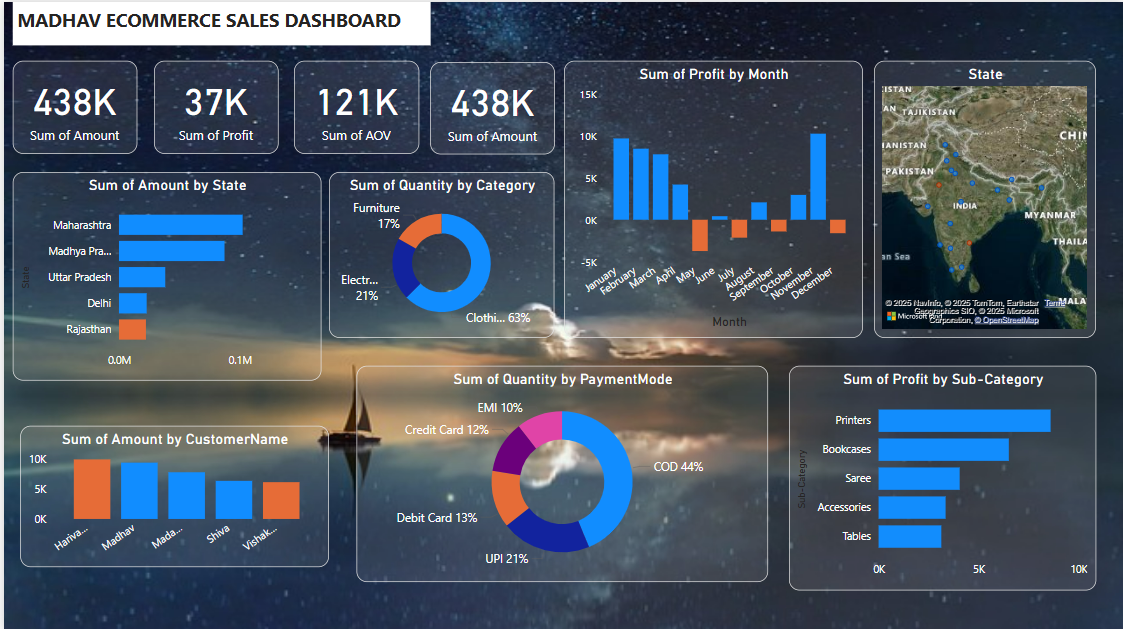

Layout of this report page (visuals, bound fields, positions):
{"tool":"powerbi","page":{"name":"Page 1","canvas":[1280,720],"ordinal":0},"visuals":[{"type":"textbox","box":[9.6,0,477.5,49.4],"z":0},{"type":"columnChart","fields":{"Category":["Orders.Order Date.Variation.Date Hierarchy.Month"],"Y":["Details.Profit"]},"box":[639.5,67.2,341.7,317],"z":1000},{"type":"barChart","fields":{"Category":["Details.Sub-Category"],"Y":["Details.Profit"]},"box":[897.4,415.8,351.3,256.6],"z":2000},{"type":"donutChart","fields":{"Category":["Details.Category"],"Y":["Details.Quantity"]},"box":[371.9,194.9,258,189.4],"z":3000},{"type":"donutChart","fields":{"Y":["Details.Quantity"],"Category":["Details.PaymentMode"]},"box":[403.4,415.8,470.7,247],"z":4000},{"type":"card","fields":{"Values":["Details.Amount"]},"box":[10,66.7,142.2,106.7],"z":5000},{"type":"card","fields":{"Values":["Details.Profit"]},"box":[171.1,66.7,142.2,106.7],"z":6000},{"type":"card","fields":{"Values":["Details.AOV"]},"box":[331.1,66.7,143.3,106.7],"z":7000},{"type":"card","fields":{"Values":["Details.Amount"]},"box":[487.1,68.6,142.7,105.7],"z":8000},{"type":"barChart","fields":{"Category":["Orders.State"],"Y":["Details.Amount"]},"box":[9.6,194.9,352.7,238.8],"z":9000},{"type":"columnChart","fields":{"Category":["Orders.CustomerName"],"Y":["Details.Amount"]},"box":[19.2,484.4,352.7,161.9],"z":10000},{"type":"map","fields":{"Category":["Orders.State"]},"box":[994.9,67.2,253.9,317],"z":11000}]}

Visuals, with their boxes in screenshot pixels (x1, y1, x2, y2), scaled from the page's 1280x720 canvas onto the 1123x629 screenshot:
textbox: 8 0 427 43
columnChart - Orders.Order Date.Variation.Date Hierarchy.Month x Details.Profit: 561 59 861 336
barChart - Details.Sub-Category x Details.Profit: 787 363 1096 587
donutChart - Details.Category x Details.Quantity: 326 170 553 336
donutChart - Details.Quantity x Details.PaymentMode: 354 363 767 579
card - Details.Amount: 9 58 134 151
card - Details.Profit: 150 58 275 151
card - Details.AOV: 290 58 416 151
card - Details.Amount: 427 60 553 152
barChart - Orders.State x Details.Amount: 8 170 318 379
columnChart - Orders.CustomerName x Details.Amount: 17 423 326 565
map - Orders.State: 873 59 1096 336
